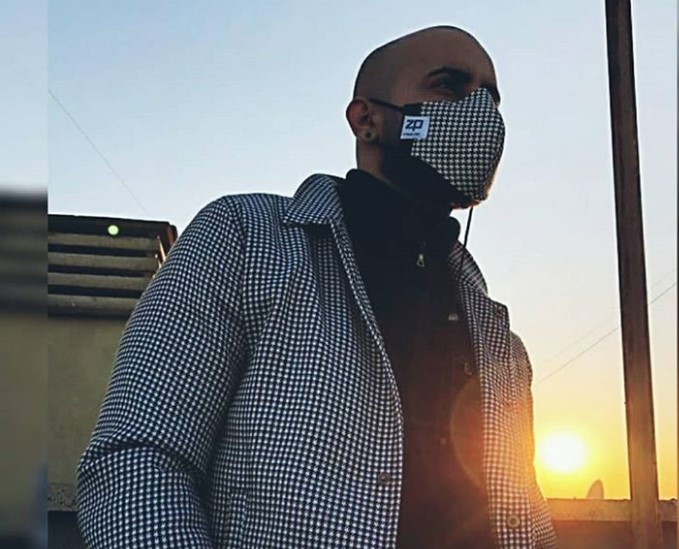face_with_mask: (346, 20, 503, 216)
